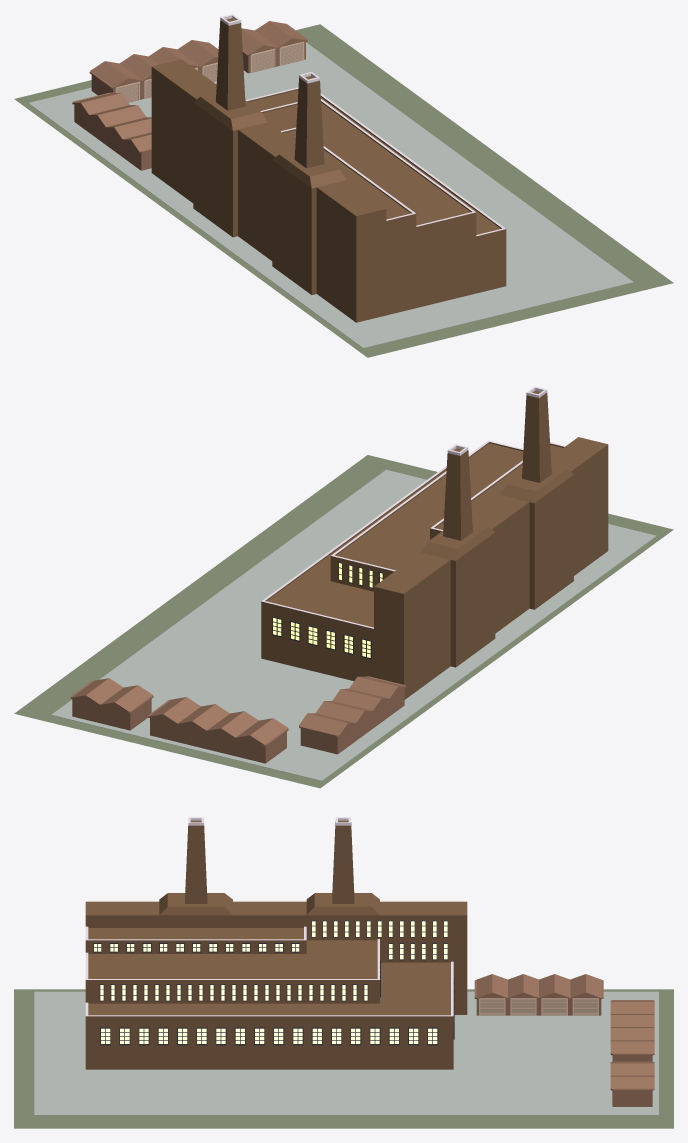
The model's file is Factory.glb.
3 renders of one model, top to bottom at view 1: azimuth 30°, elevation 25°; view 2: azimuth 150°, elevation 25°; view 3: azimuth 270°, elevation 25°, orthographic. The views are drawn at different scales.
Parts seen in each view (by area): view 1: Factory, Plane.002, Plane.001, GaragesQuad, GaragesQuad.001, GaragesDouble; view 2: Factory, Plane.002, Plane.001, GaragesQuad.001, GaragesQuad, GaragesDouble; view 3: Factory, Plane.002, Plane.001, GaragesQuad, GaragesQuad.001, GaragesDouble, GDOOR4, GDOOR3, GDOOR2, GDOOR1.
Boxes of the visible parts, box(x1,y1,x2,y2) form: Factory: box(151, 14, 506, 322); Plane.002: box(28, 42, 633, 348); Plane.001: box(14, 24, 673, 357); GaragesQuad: box(72, 92, 151, 170); GaragesQuad.001: box(89, 40, 218, 99); GaragesDouble: box(241, 21, 307, 73); Factory: box(261, 386, 608, 699); Plane.002: box(51, 469, 656, 780); Plane.001: box(14, 455, 673, 788); GaragesQuad.001: box(148, 697, 288, 763); GaragesQuad: box(299, 676, 406, 754); GaragesDouble: box(70, 678, 153, 730); Factory: box(85, 817, 467, 1069); Plane.002: box(34, 991, 658, 1115); Plane.001: box(14, 989, 673, 1128); GaragesQuad: box(474, 974, 603, 1015); GaragesQuad.001: box(610, 1000, 654, 1061); GaragesDouble: box(610, 1061, 654, 1106); GDOOR4: box(572, 998, 598, 1015); GDOOR3: box(541, 998, 567, 1015); GDOOR2: box(510, 998, 536, 1015); GDOOR1: box(479, 998, 505, 1015).
Size of the model in its own units: 120 by 75.17 by 240.
